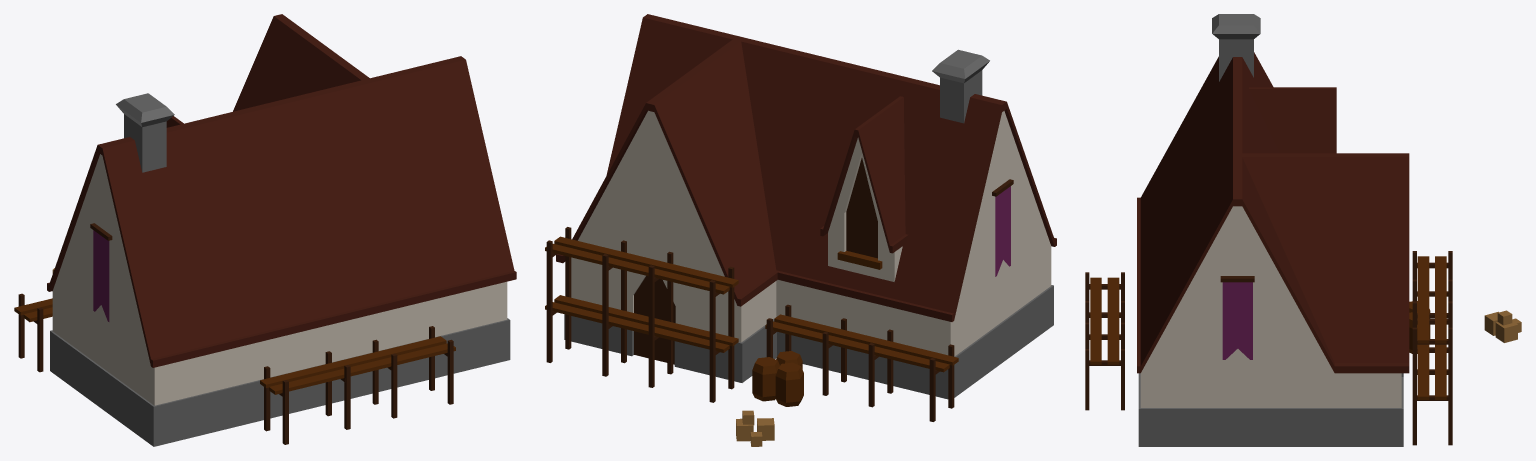
Rendered from DwellingBuildPhase3v1.fbx.
3 renders of one model, left to right at view 1: azimuth 30°, elevation 25°; view 2: azimuth 150°, elevation 25°; view 3: azimuth 270°, elevation 25°, orthographic. The views are drawn at different scales.
Visible parts, largest first — view 1: Plane.363; view 2: Plane.363; view 3: Plane.363.
Boxes of the visible parts, bbox=[...] form: Plane.363: bbox=[14, 14, 516, 446]; Plane.363: bbox=[545, 14, 1056, 446]; Plane.363: bbox=[1085, 14, 1521, 446].
Size of the model in its own units: 213 by 162 by 225.
